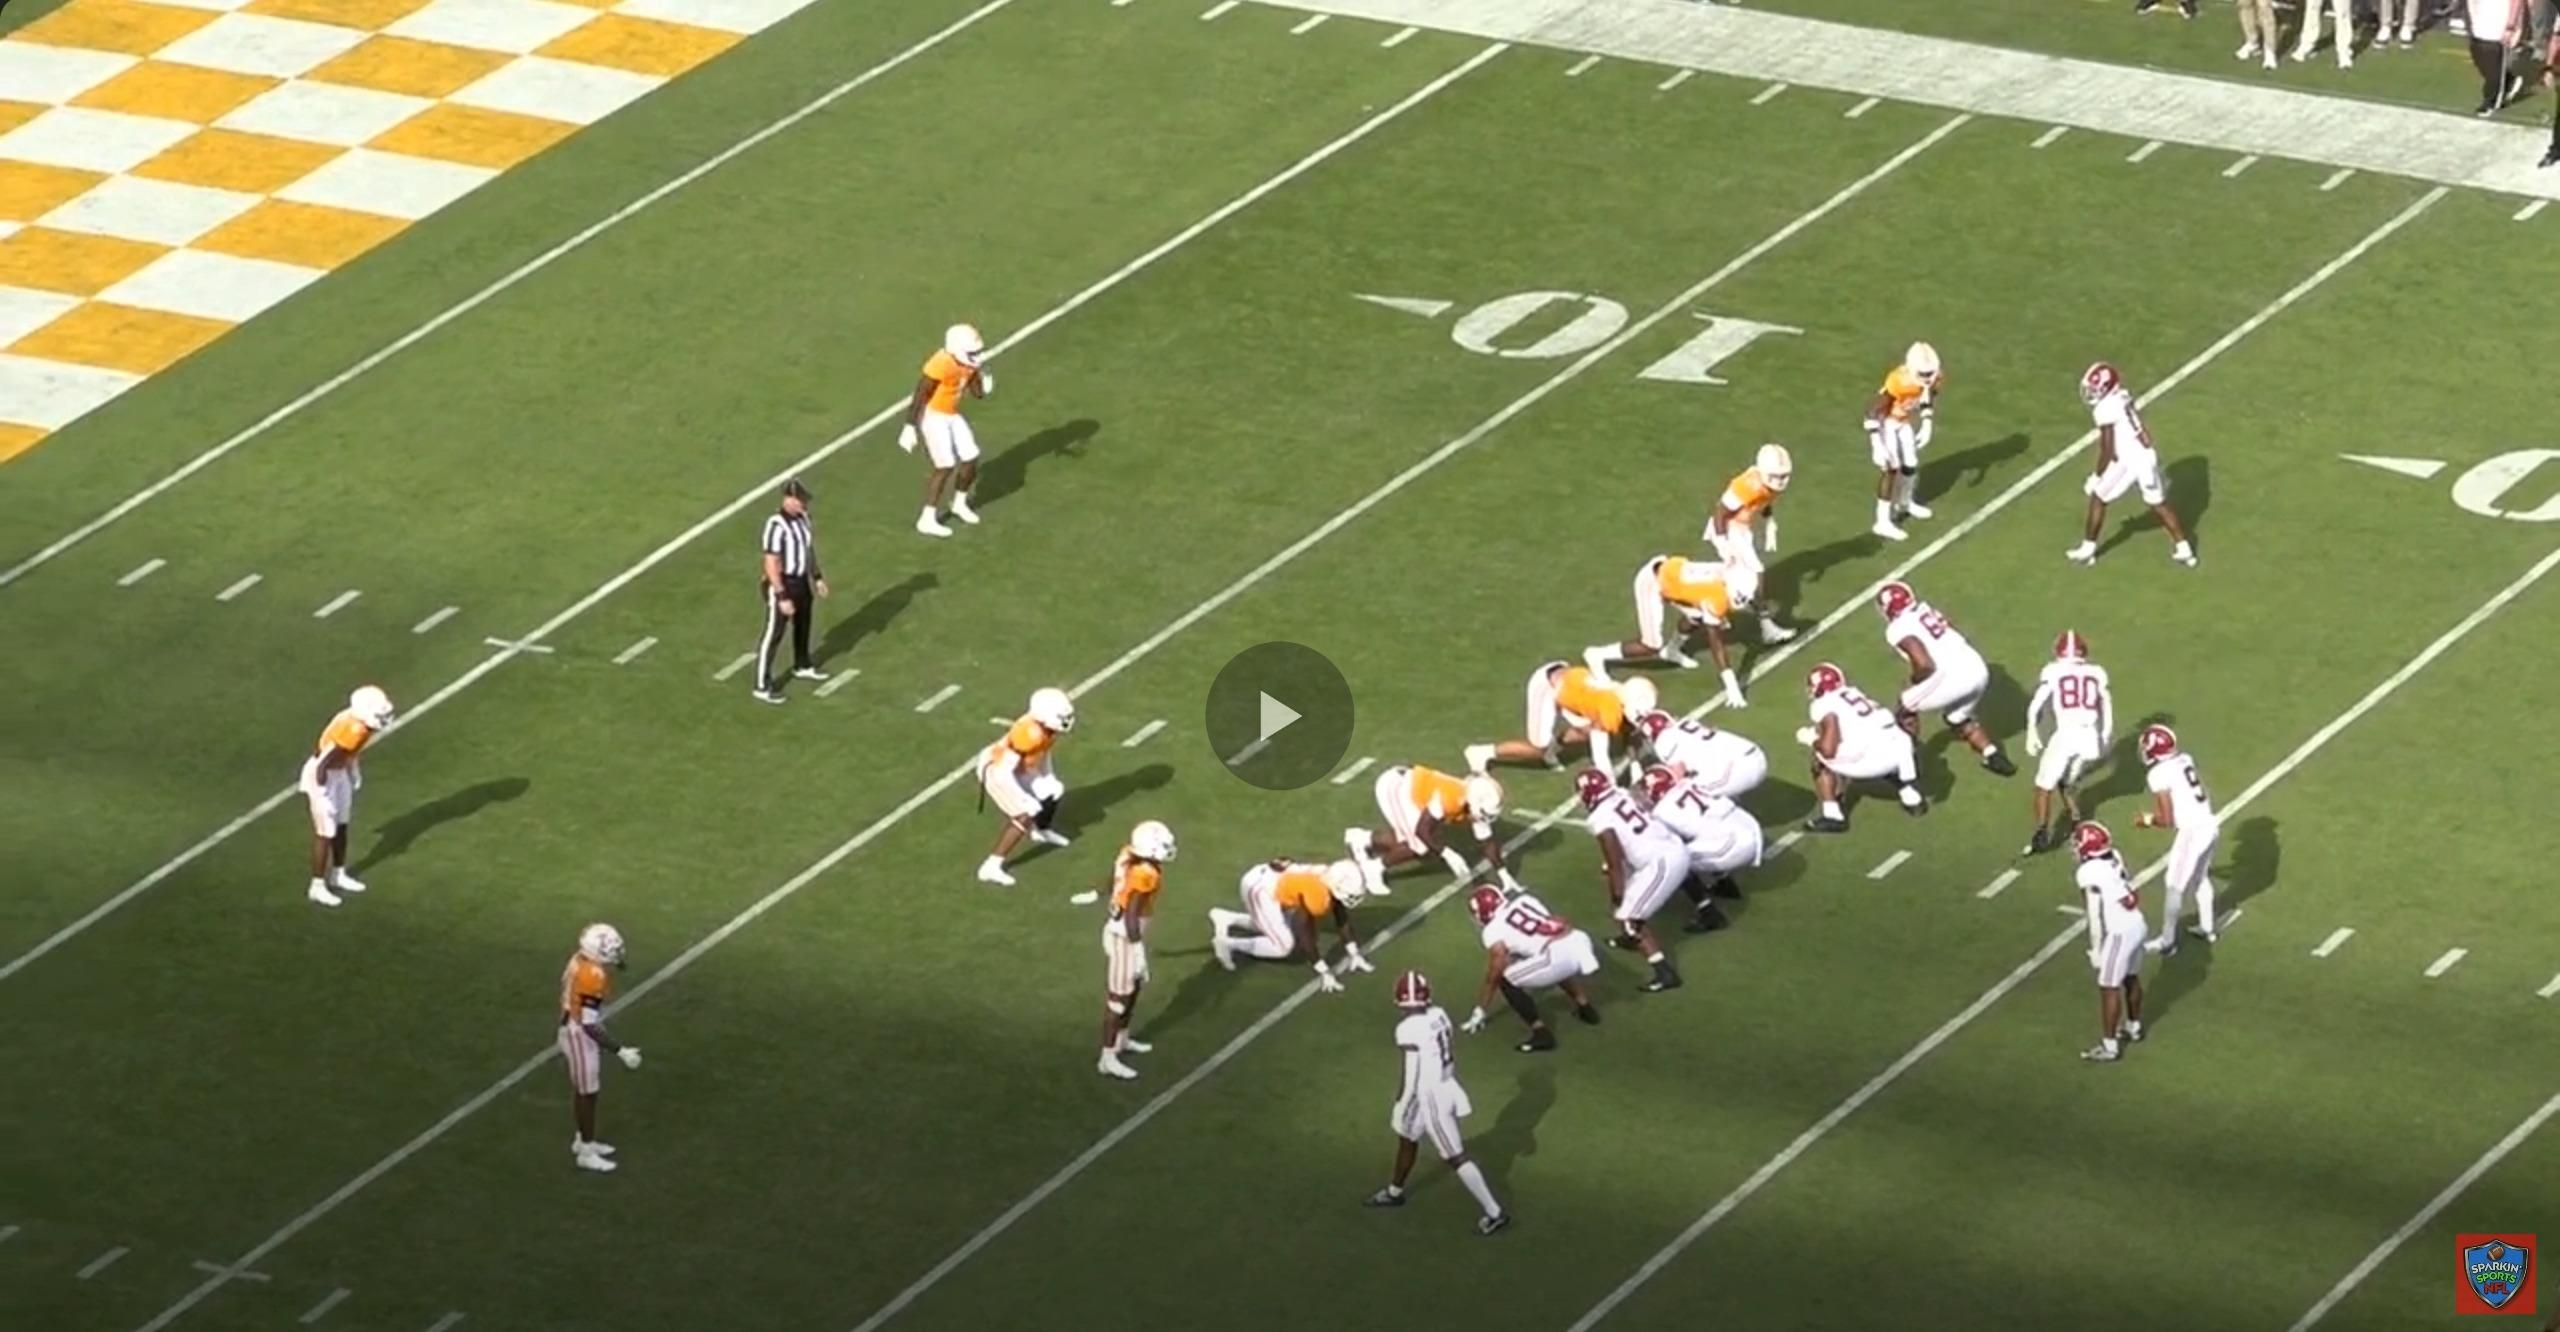player: (1377, 978, 1516, 1244), (1869, 581, 2015, 798), (2073, 361, 2211, 583), (1578, 550, 1767, 708), (1570, 777, 1695, 1004), (1456, 872, 1603, 1061), (1790, 663, 1938, 843), (1473, 657, 1671, 789), (537, 910, 636, 1172), (1213, 845, 1388, 993), (1086, 813, 1178, 1086), (2019, 628, 2127, 859), (902, 319, 1007, 552), (292, 678, 397, 910), (2058, 821, 2155, 1060), (2133, 718, 2229, 958), (975, 685, 1085, 894), (1350, 759, 1517, 895), (1711, 437, 1809, 650), (1660, 758, 1774, 932), (1867, 338, 1955, 548), (1645, 703, 1785, 810)
ref: (739, 492, 828, 717), (2532, 40, 2560, 173)
